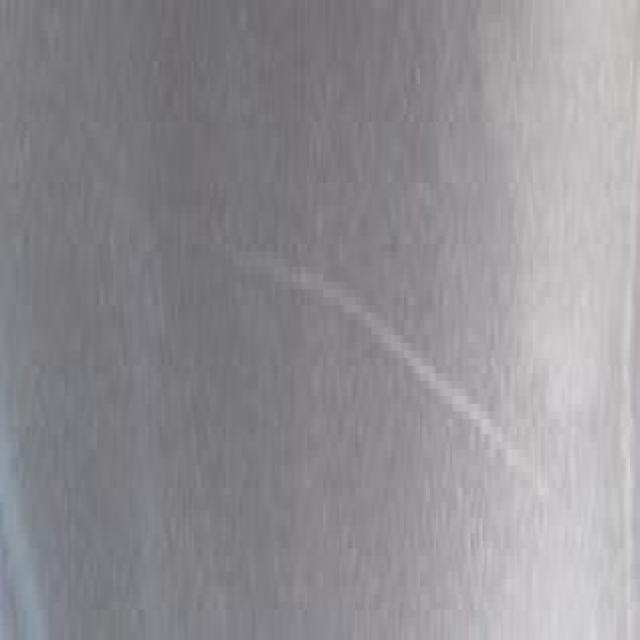scratch: (229, 187, 568, 568)
